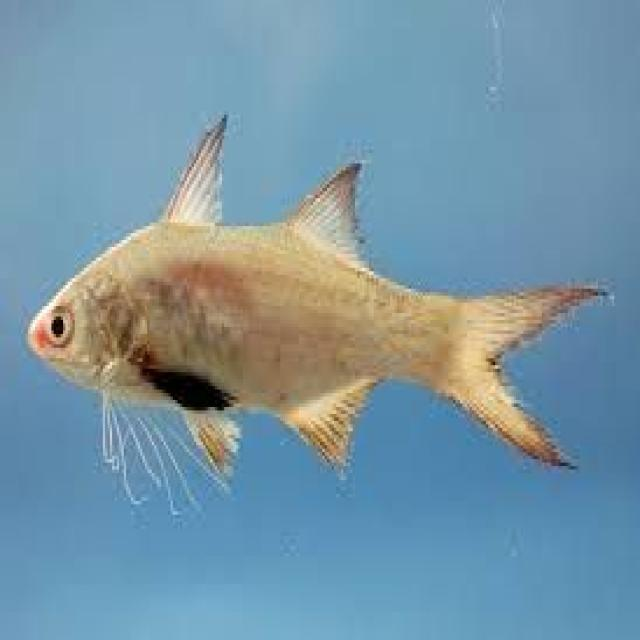Fourfinger-Threadfin: (0, 91, 640, 537)
